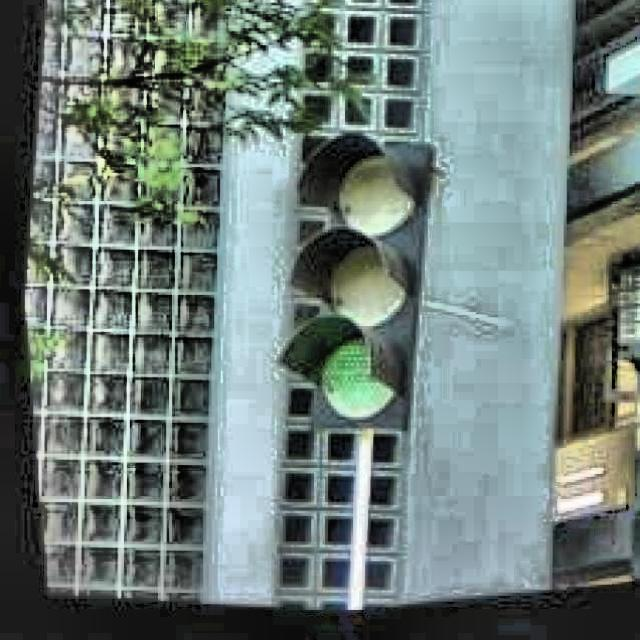green: (287, 132, 419, 431)
